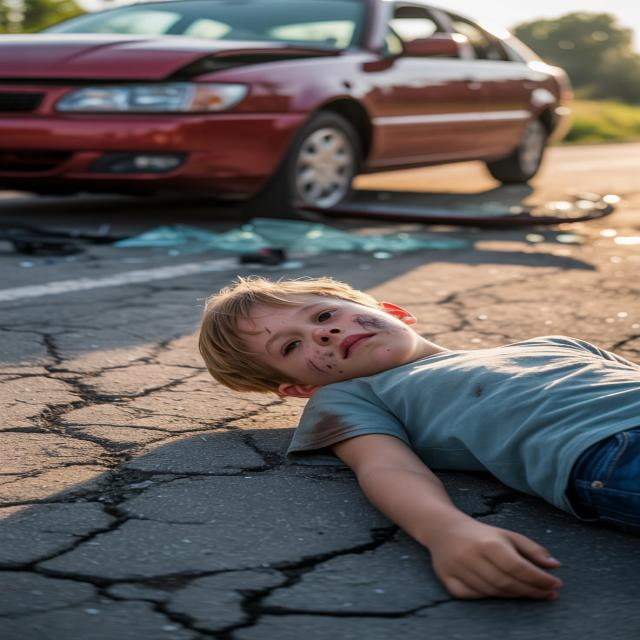injury: (199, 276, 453, 395), (352, 312, 408, 339), (305, 355, 341, 374)
